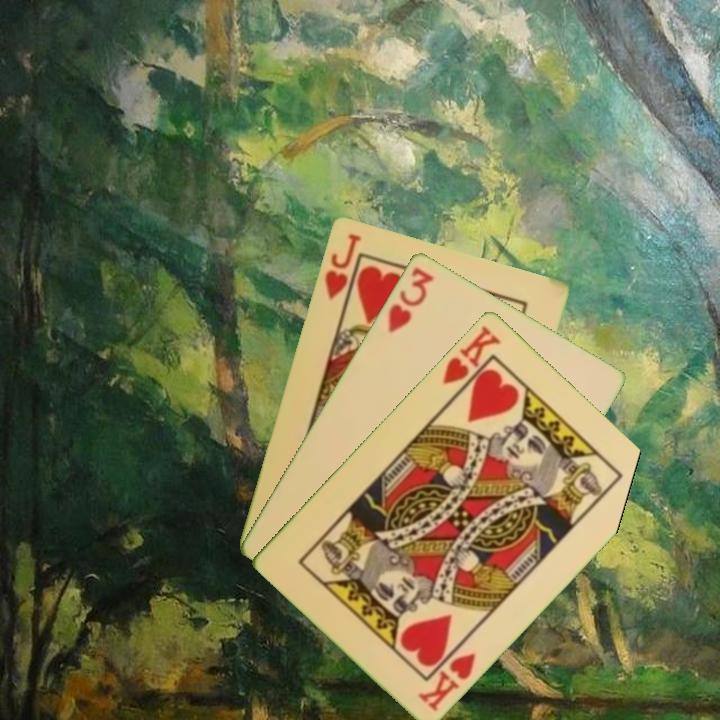3h: (384, 263, 436, 335)
Jh: (320, 229, 364, 302)
Kh: (439, 321, 504, 400), (414, 648, 479, 714)
